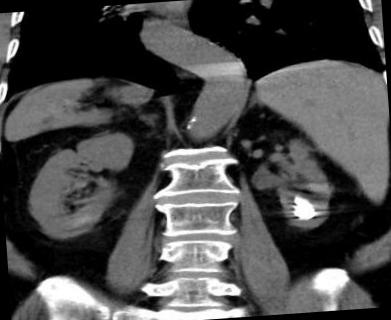Tas_Var: (279, 194, 323, 222)
